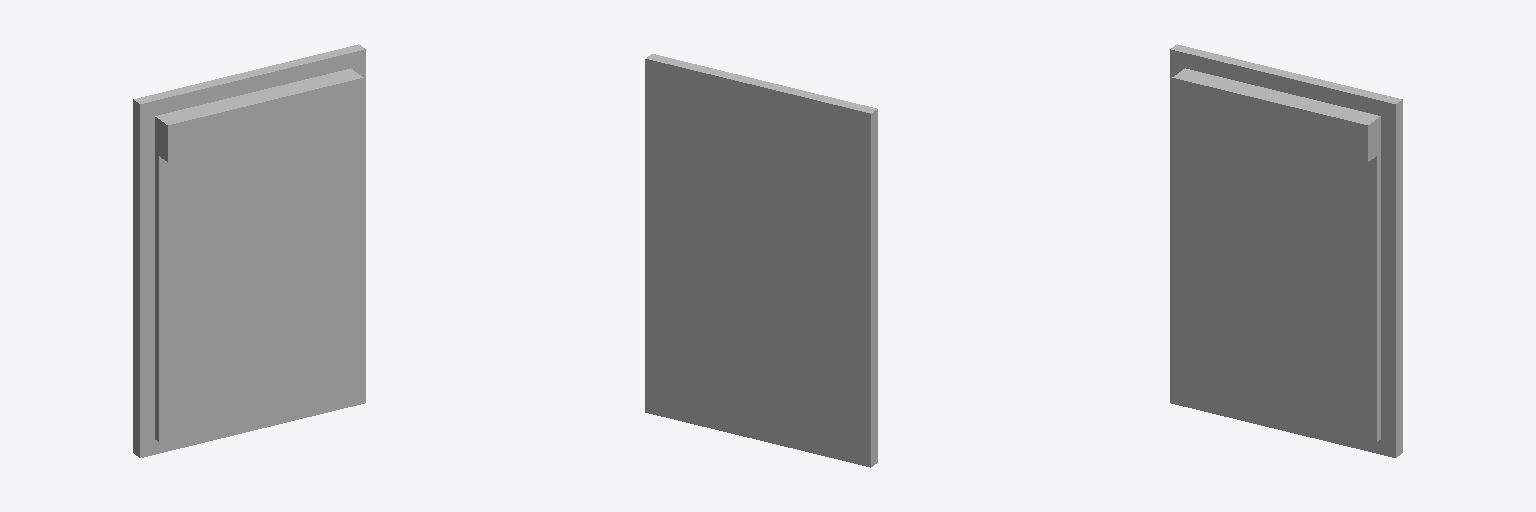
File: paper_work.obj
3 views of the same model, side by side, from view 1: azimuth 30°, elevation 25°; view 2: azimuth 150°, elevation 25°; view 3: azimuth 330°, elevation 25° (orthographic).
Parts seen in each view (by area): view 1: Cube.002_Cube.007; view 2: Cube.002_Cube.007; view 3: Cube.002_Cube.007.
Part boxes in pixels (x1,y1,x2,y2): Cube.002_Cube.007: (133,44,365,457); Cube.002_Cube.007: (645,54,877,467); Cube.002_Cube.007: (1170,44,1402,457).
Size of the model in its own units: 0.262 by 0.393 by 0.0392.